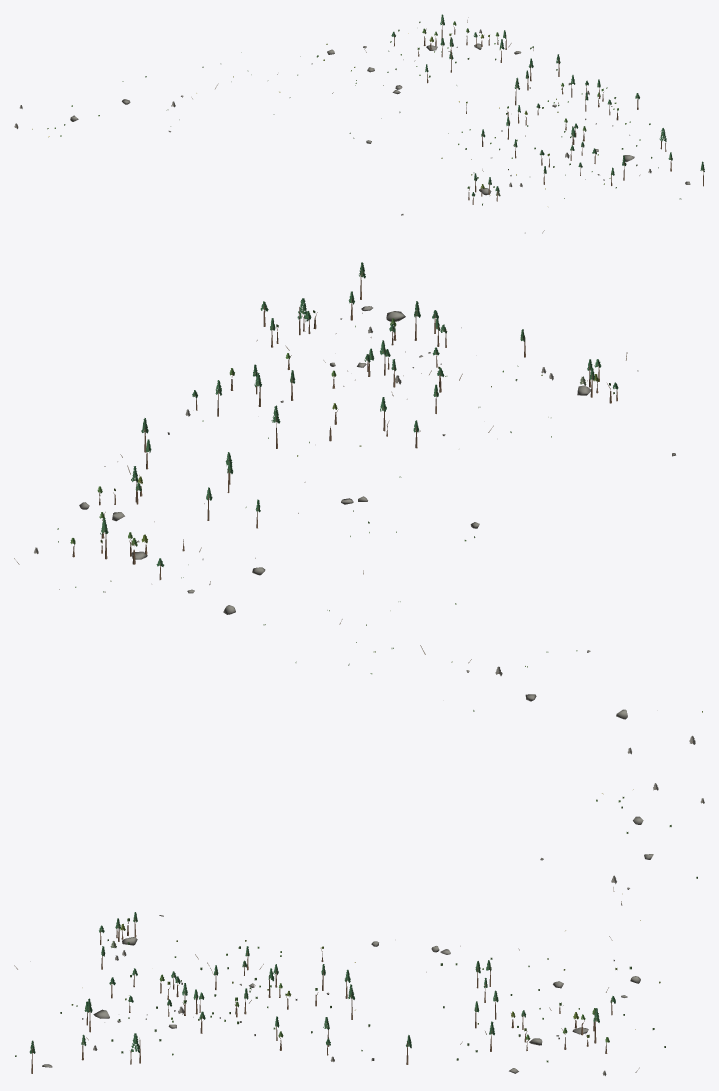
The model's file is arch_land_scatter_c19_22_lod1.glb.
3 views of the same model, one above another, from view 1: azimuth 30°, elevation 25°; view 2: azimuth 150°, elevation 25°; view 3: azimuth 270°, elevation 25° (orthographic). The views are drawn at different scales.
Parts seen in each view (by area): view 1: arch_land_scatter_c19_22_lod1; view 2: arch_land_scatter_c19_22_lod1; view 3: arch_land_scatter_c19_22_lod1.
Boxes of the visible parts, x1,y1,x2,y2 form: arch_land_scatter_c19_22_lod1: (14,14,704,233); arch_land_scatter_c19_22_lod1: (14,262,702,754); arch_land_scatter_c19_22_lod1: (14,783,704,1075).
Size of the model in its own units: 254 by 32.07 by 253.
